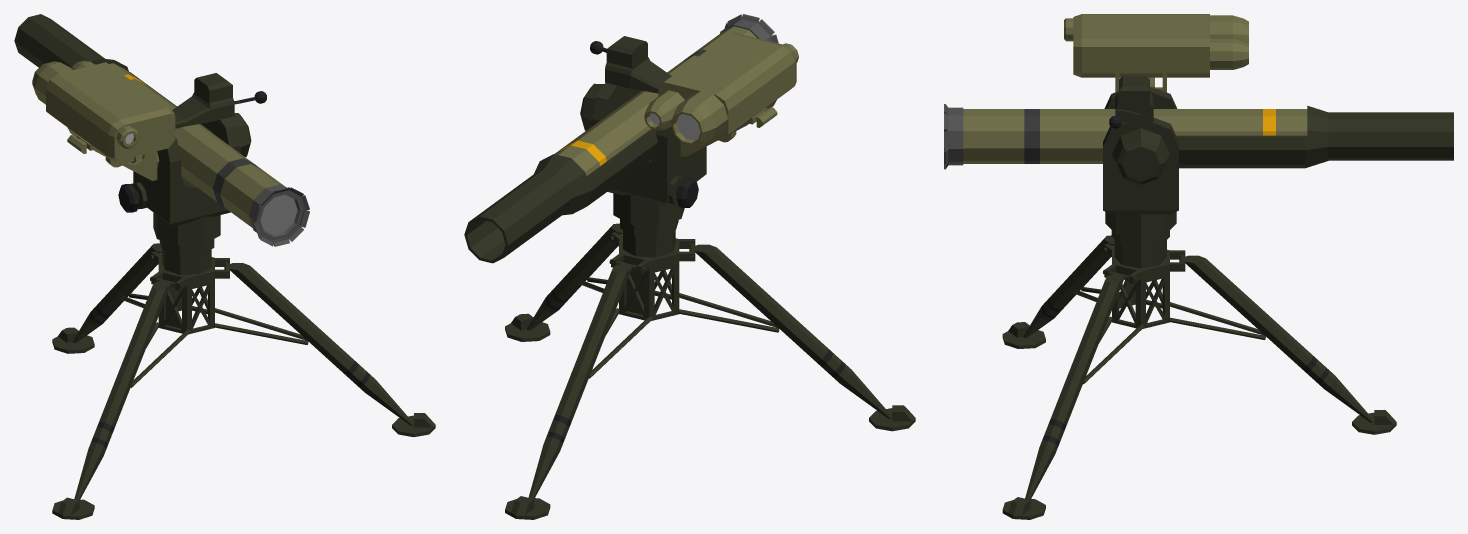
Rendered from TOW.fbx.
3 renders of one model, left to right at view 1: azimuth 30°, elevation 25°; view 2: azimuth 150°, elevation 25°; view 3: azimuth 270°, elevation 25°, orthographic. The views are drawn at different scales.
Visible parts, largest first — view 1: BMG_71_TOW, Feets, Missile; view 2: BMG_71_TOW, Feets, Missile; view 3: BMG_71_TOW, Feets, Missile.
Part boxes in pixels (x1=…): BMG_71_TOW: x1=14, y1=14, x2=266, y2=334; Feets: x1=52, y1=243, x2=435, y2=519; Missile: x1=109, y1=63, x2=309, y2=246; BMG_71_TOW: x1=464, y1=33, x2=798, y2=320; Feets: x1=505, y1=223, x2=915, y2=519; Missile: x1=556, y1=14, x2=778, y2=175; BMG_71_TOW: x1=1064, y1=14, x2=1453, y2=328; Feets: x1=1002, y1=235, x2=1396, y2=519; Missile: x1=944, y1=104, x2=1307, y2=169.
Size of the model in its own units: 159 by 142 by 181.
Materials: 1 (1 with a texture image).
